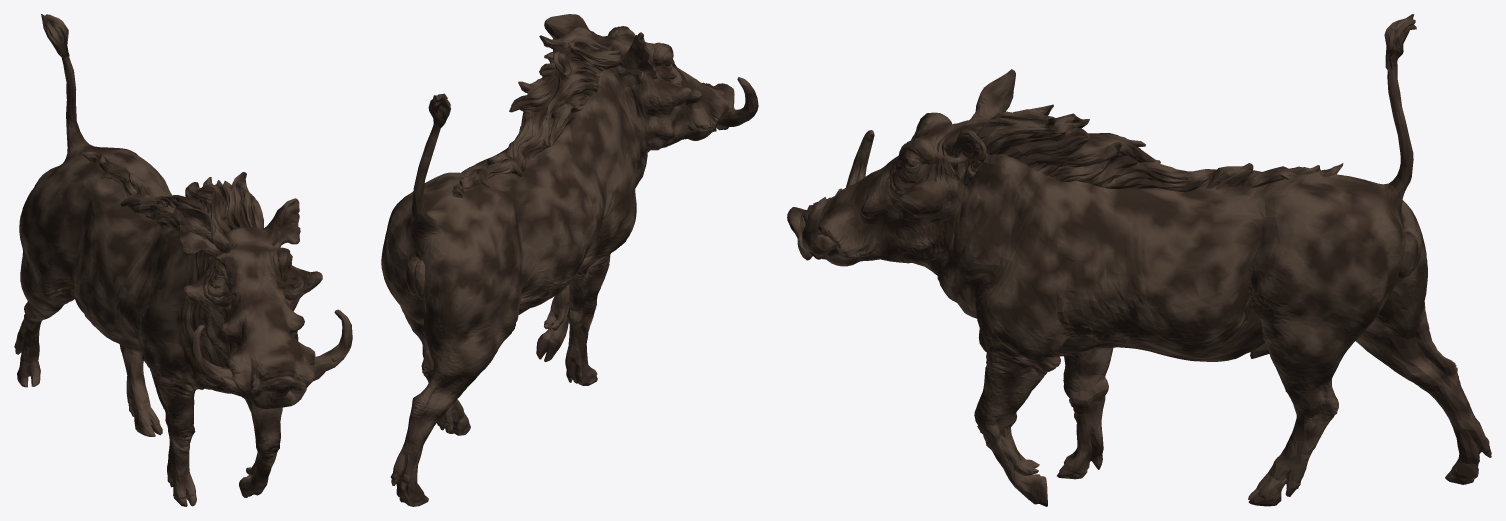
The model's file is animal_warthog_v1.glb.
3 renders of one model, left to right at view 1: azimuth 30°, elevation 25°; view 2: azimuth 150°, elevation 25°; view 3: azimuth 270°, elevation 25°, orthographic. The views are drawn at different scales.
Parts seen in each view (by area): view 1: warthog-1-24; view 2: warthog-1-24; view 3: warthog-1-24.
Part boxes in pixels (bbox=[...]): warthog-1-24: bbox=[14, 14, 352, 506]; warthog-1-24: bbox=[381, 14, 758, 506]; warthog-1-24: bbox=[787, 14, 1491, 506].
Bounding box in the file's own units: 18.47 × 41.02 × 56.88.
